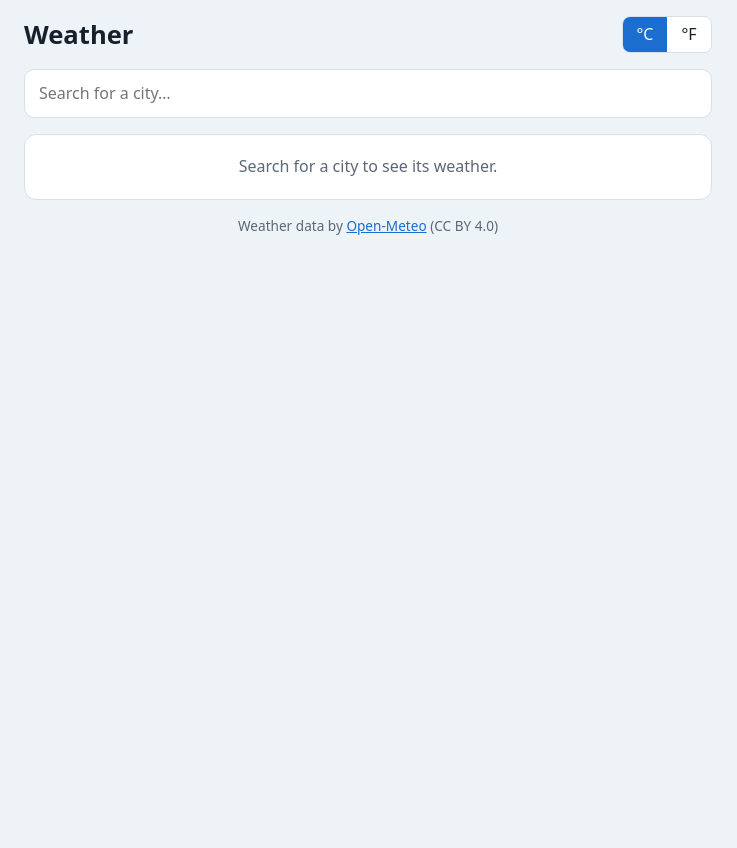
it: App › shows an error and recovers on retry
Type "Berlin" into the dropdown with placeholder "Search for a city…" at (368, 94), box [24,69,712,118]
Wait 250 ms
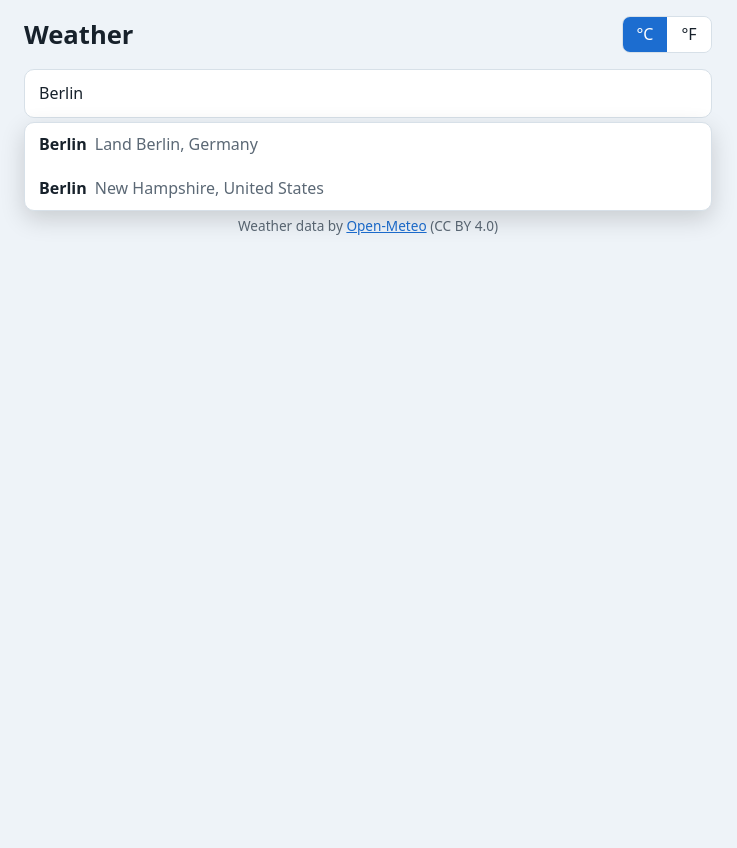
Click the option "Berlin Land Berlin, Germany" at (148, 144), box [39,133,258,155]
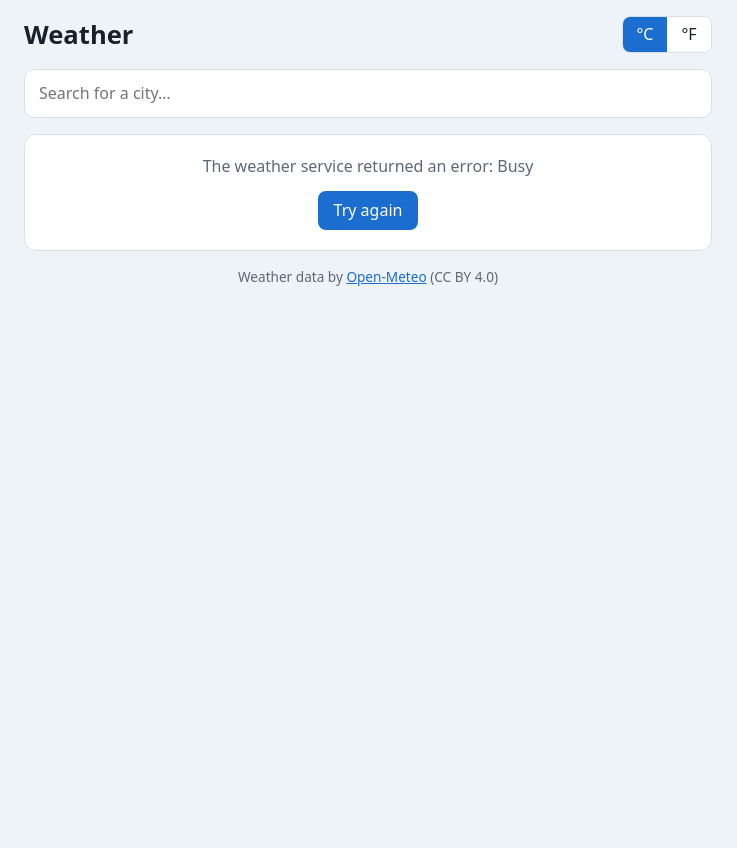
Result: the message "The weather service returned an error: Busy Try again" is shown at [24,134,712,251]
Click the button with class "retry" at (368, 210), box [318,191,418,230]
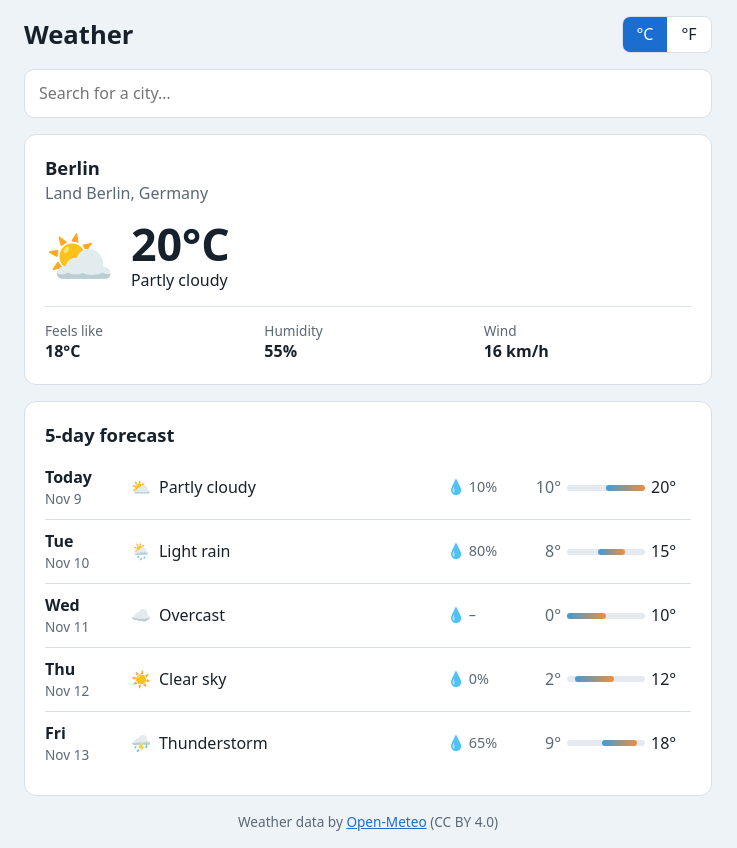
Result: the text with test id "current-temp" reads "20°C" at [131,213,230,274]
